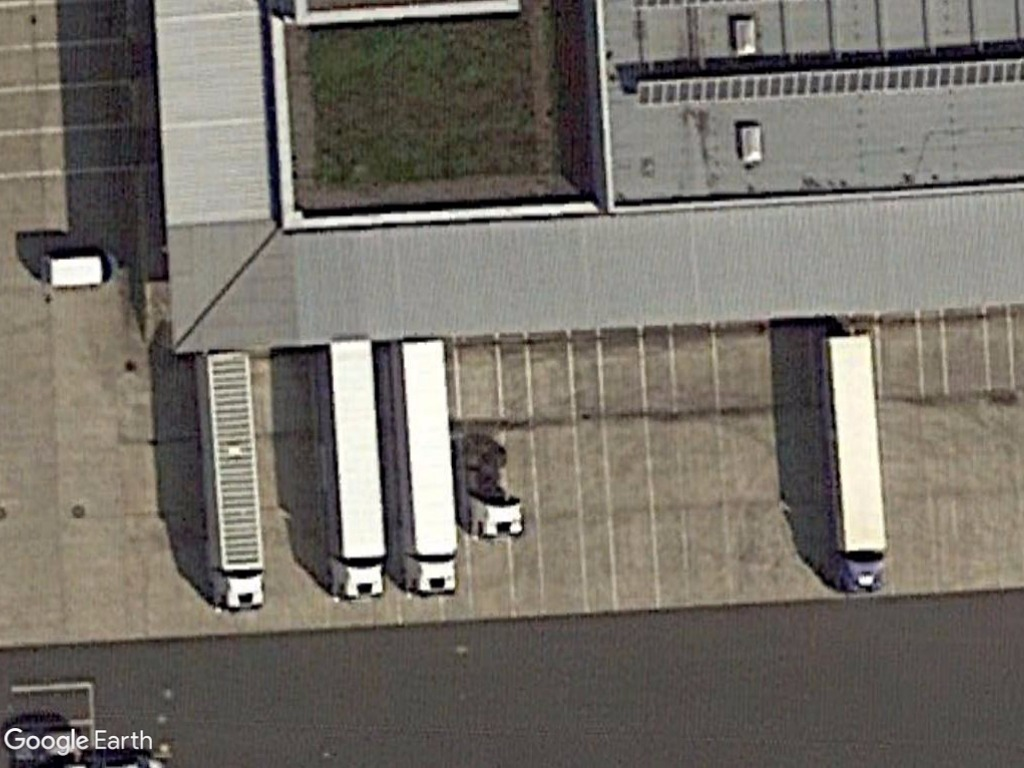longvehicle: (188, 346, 274, 615), (812, 329, 896, 597), (315, 331, 392, 606), (386, 332, 461, 602)
van: (40, 243, 126, 291)
